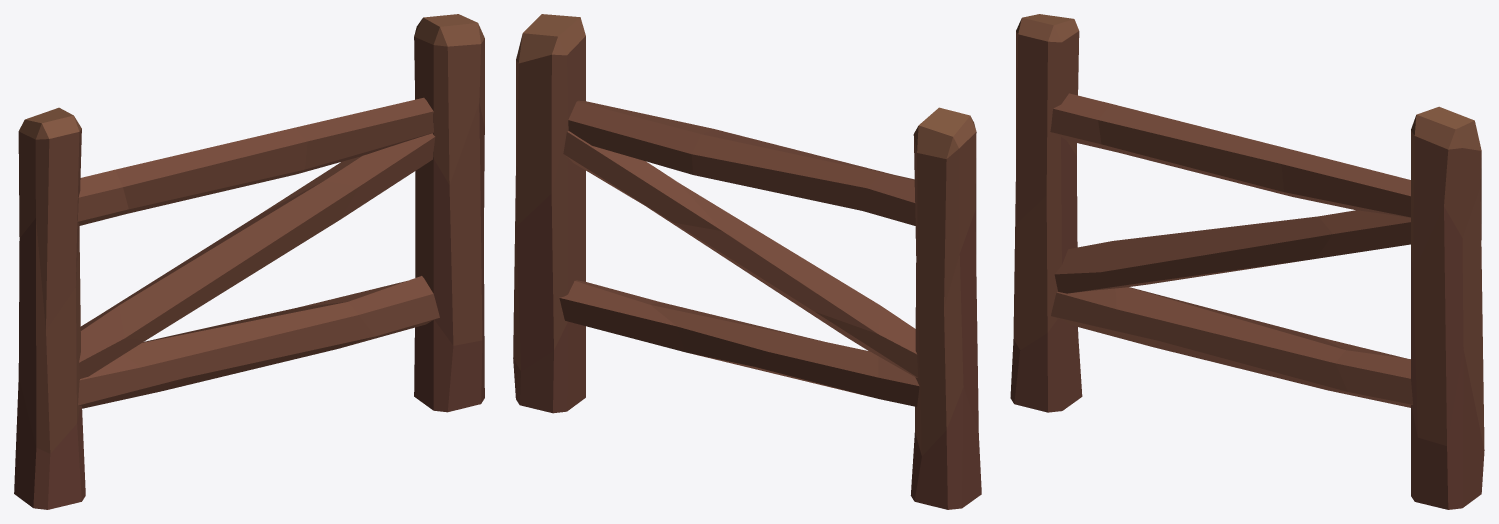
File: gate_log_left.fbx
3 views of the same model, side by side, from view 1: azimuth 30°, elevation 25°; view 2: azimuth 150°, elevation 25°; view 3: azimuth 330°, elevation 25° (orthographic).
Visible parts, largest first — view 1: gate_log_left; view 2: gate_log_left; view 3: gate_log_left.
Boxes of the visible parts, box(x1,y1,x2,y2) form: gate_log_left: box(14, 14, 484, 509); gate_log_left: box(513, 14, 981, 509); gate_log_left: box(1010, 14, 1484, 509).
Bounding box in the file's own units: 78.71 × 63.61 × 9.84.
